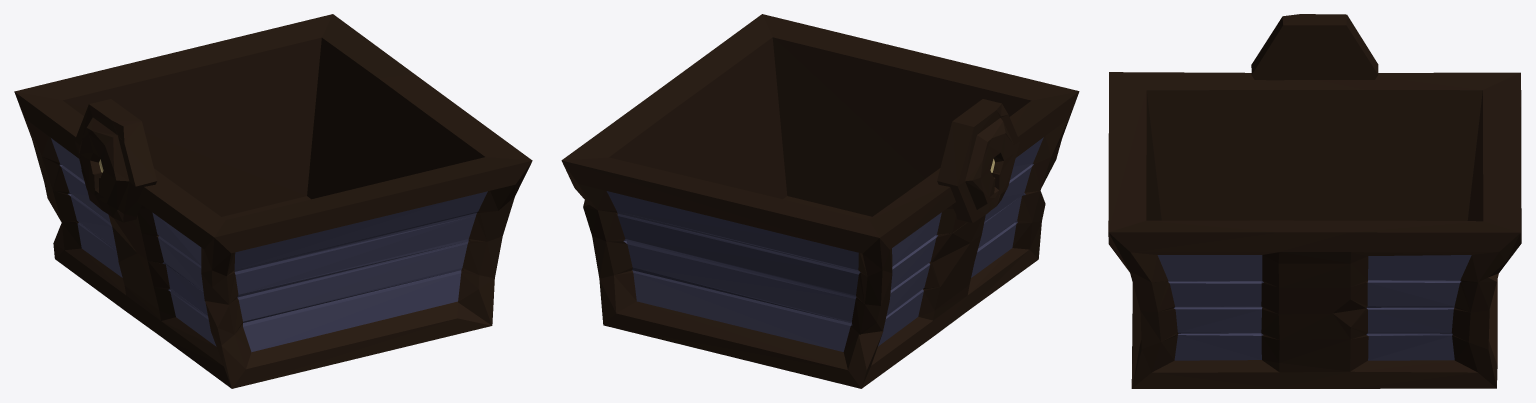
File: SFFA_Chest - Copy.fbx
3 views of the same model, side by side, from view 1: azimuth 30°, elevation 25°; view 2: azimuth 150°, elevation 25°; view 3: azimuth 270°, elevation 25° (orthographic). The views are drawn at different scales.
Parts seen in each view (by area): view 1: SFFA_Chest; view 2: SFFA_Chest; view 3: SFFA_Chest.
Boxes of the visible parts, box(x1,y1,x2,y2) form: SFFA_Chest: box(14, 14, 532, 388); SFFA_Chest: box(561, 14, 1079, 388); SFFA_Chest: box(1108, 14, 1521, 388).
Size of the model in its own units: 51.84 by 32.21 by 53.51.
